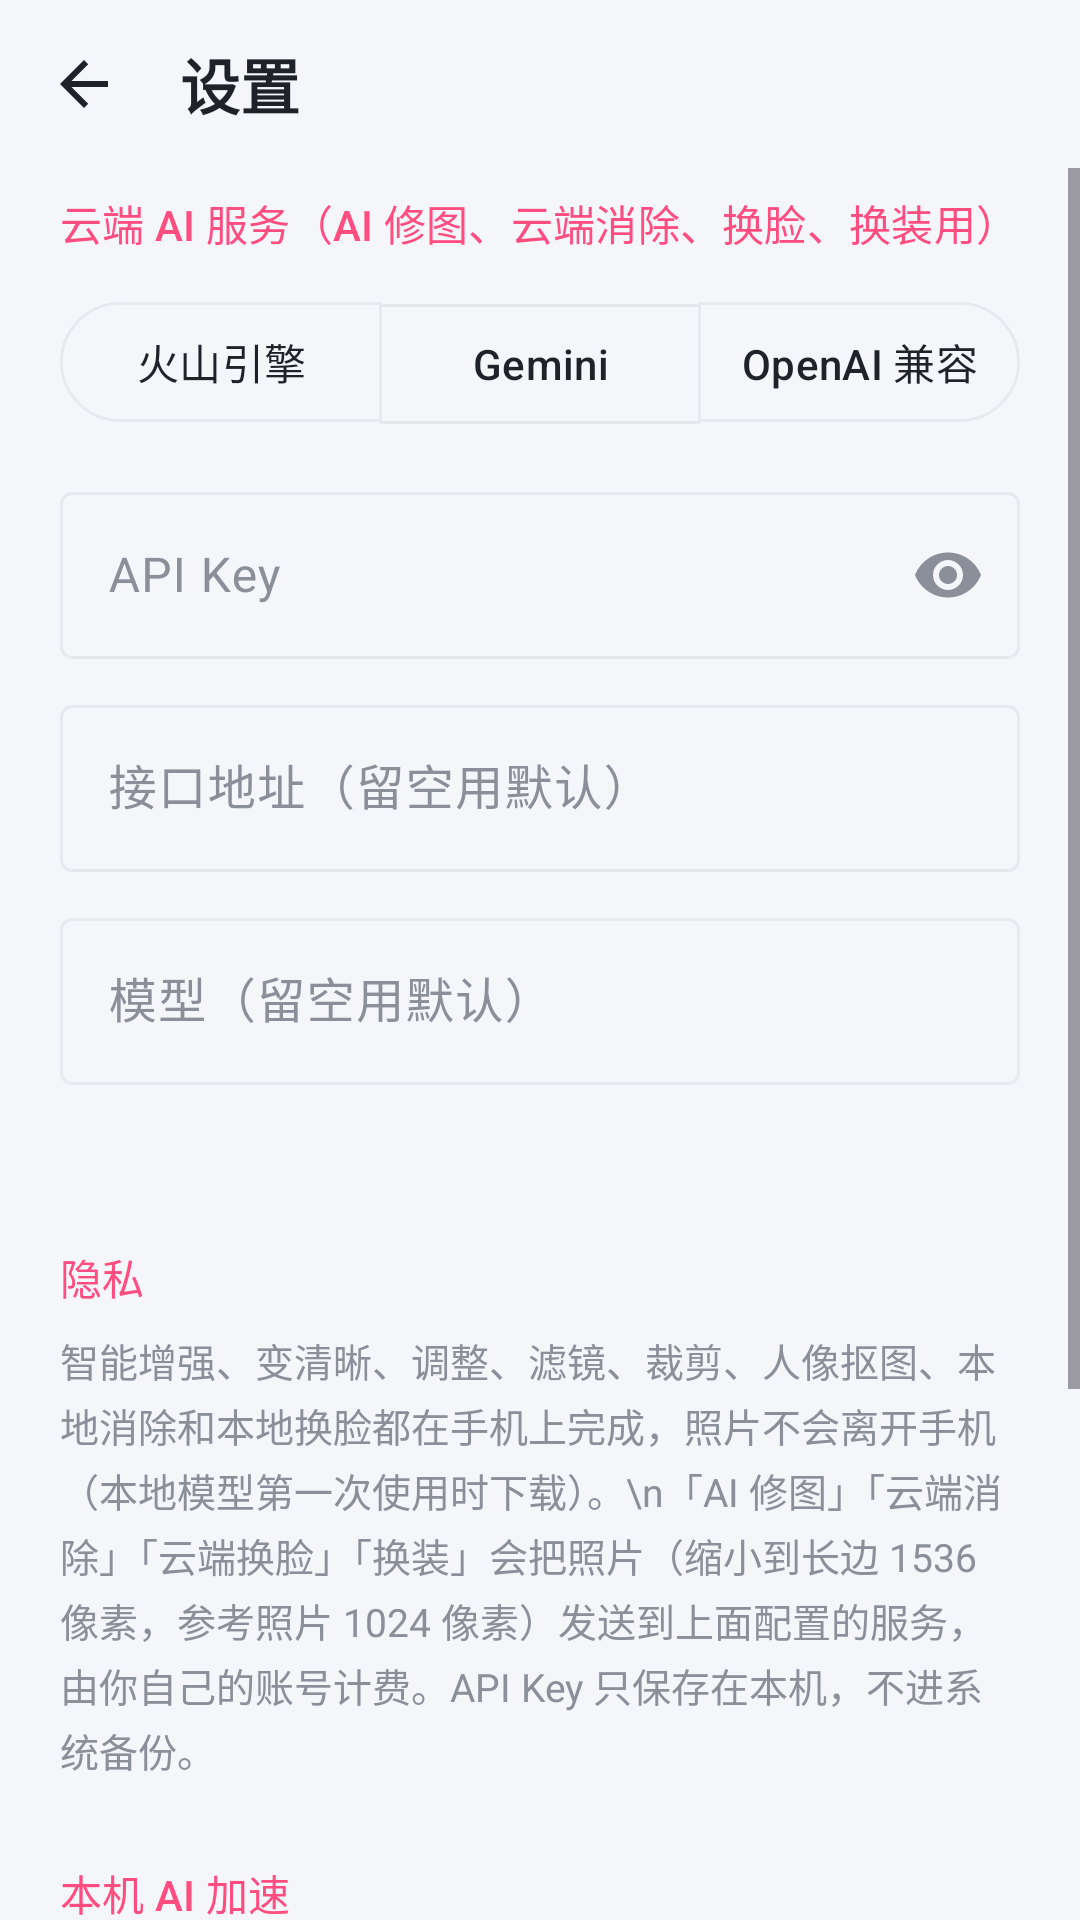

Where icons sit on this 1080 × 1920 app screen, as (x1,y1,x2,y2):
返回: (60,60,108,108)
